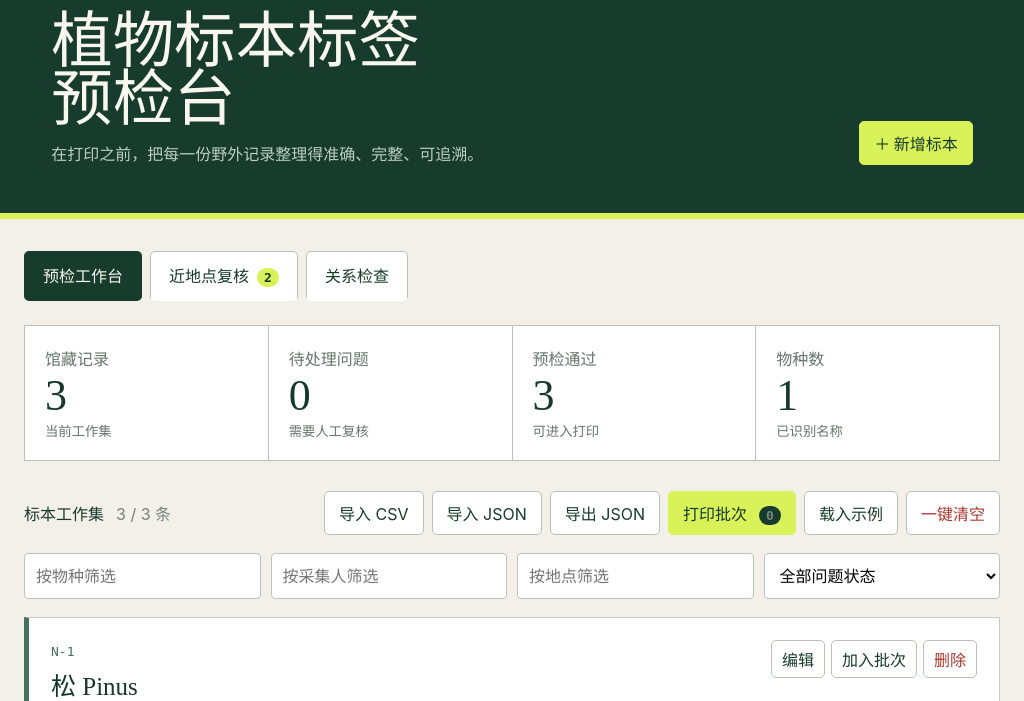
采集点关系检查（只读） › 未复核的对不会被自动确认：检查页只读，结论存储与记录原样
This screenshot has width=1024, height=701.
Click the button "近地点复核 2" at (224, 276), box x1=150 y1=250 x2=298 y2=301
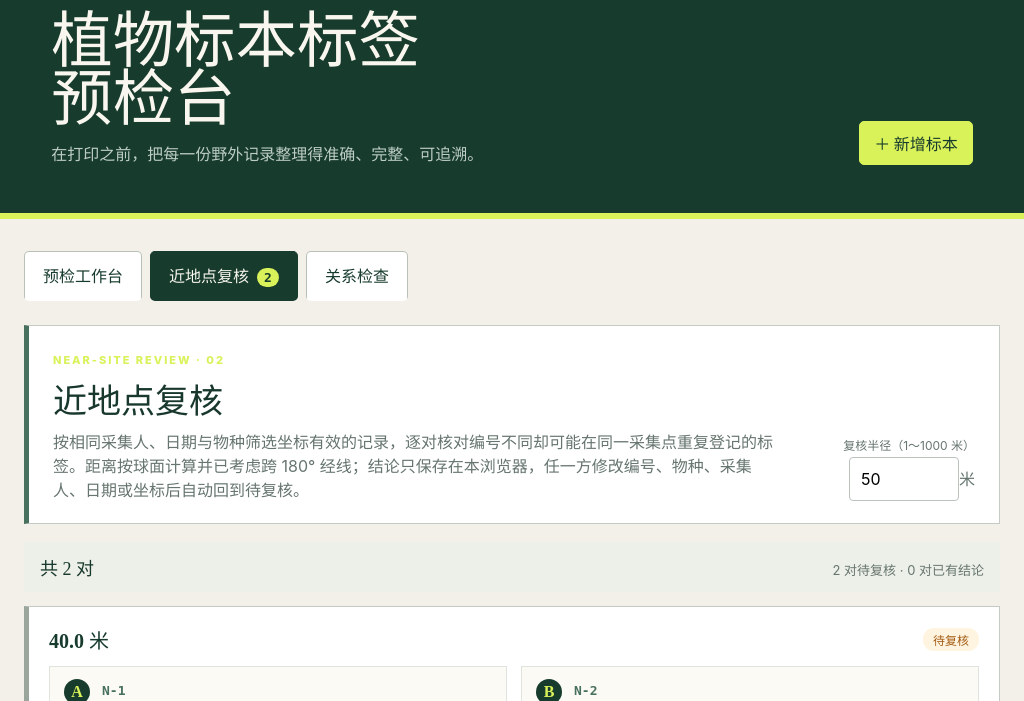
Replace the text in the field named "复核半径，单位米" with "100" at (904, 479), box x1=849 y1=457 x2=959 y2=501
(page scrolled)
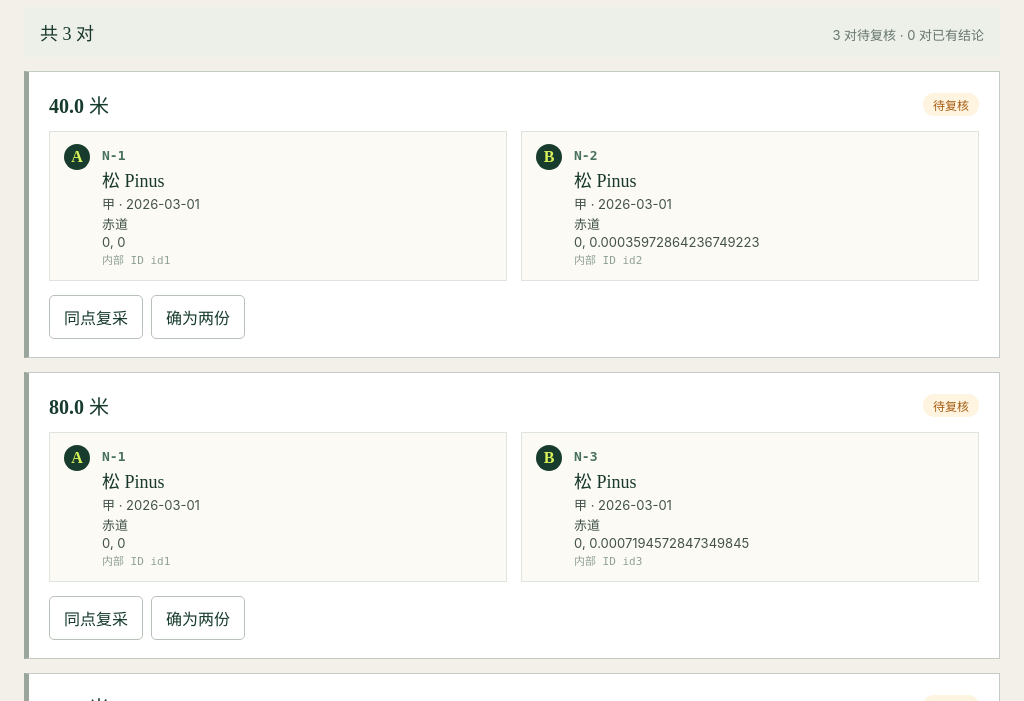
Click the 1st button "同点复采" at (96, 317), box x1=49 y1=295 x2=143 y2=339
(page scrolled)
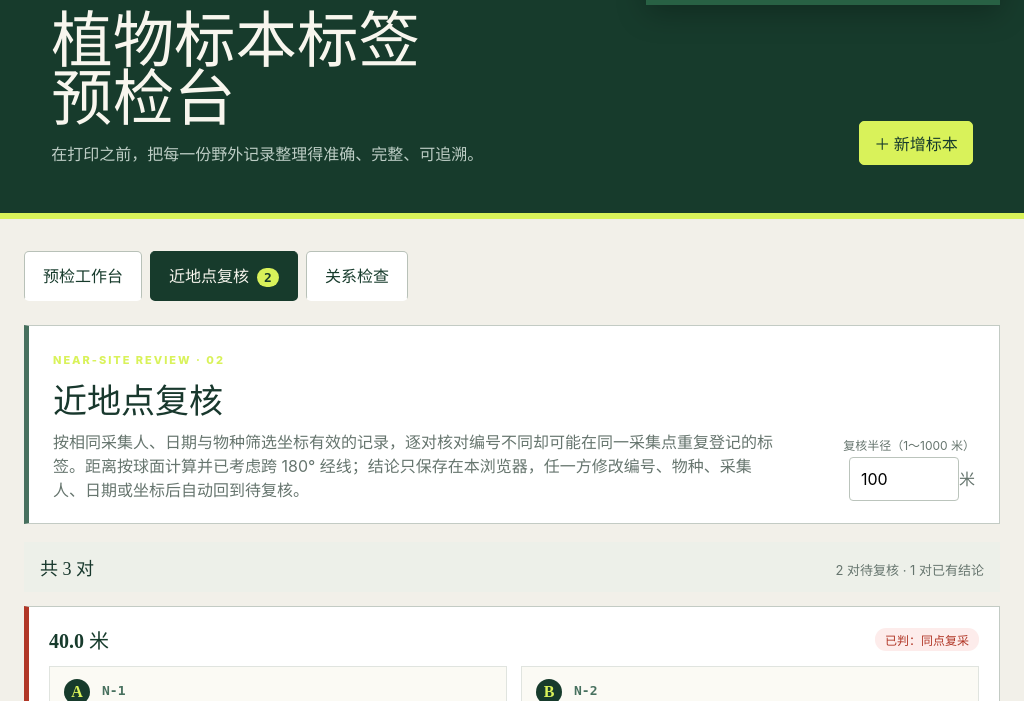
Click the button "关系检查" at (357, 276), box x1=306 y1=250 x2=408 y2=301
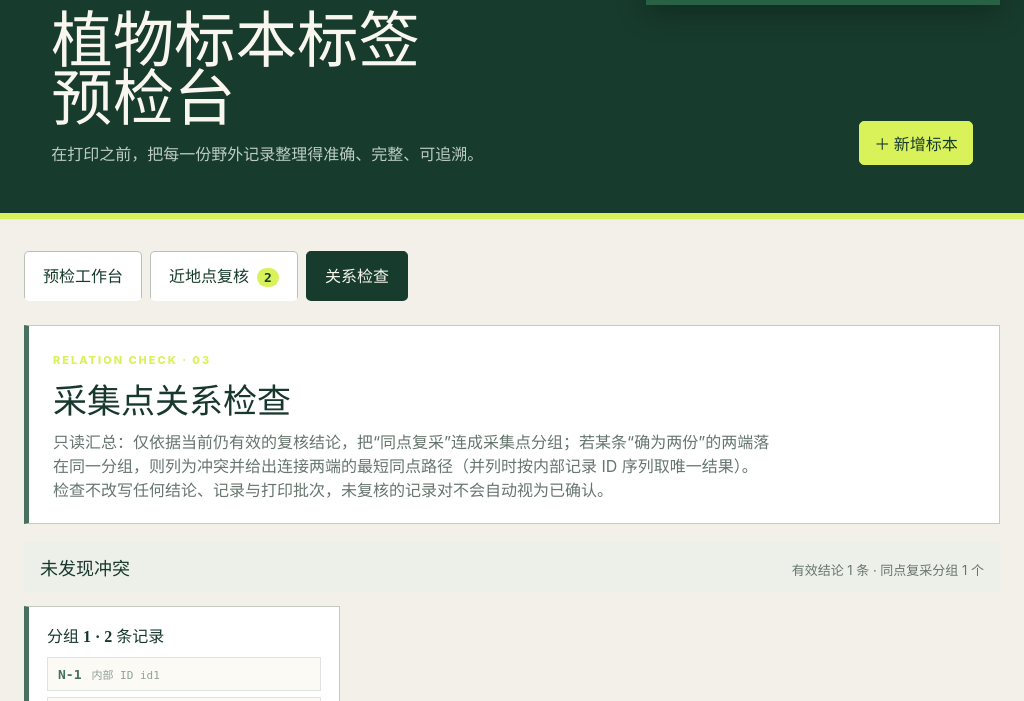
Expected: the text "未发现冲突" is shown, x1=40 y1=554 x2=130 y2=580
Expected: the text "有效结论 1 条 · 同点复采分组 1 个" is shown, x1=792 y1=560 x2=984 y2=579
Click the button "近地点复核 2" at (224, 276), box x1=150 y1=250 x2=298 y2=301
(page scrolled)
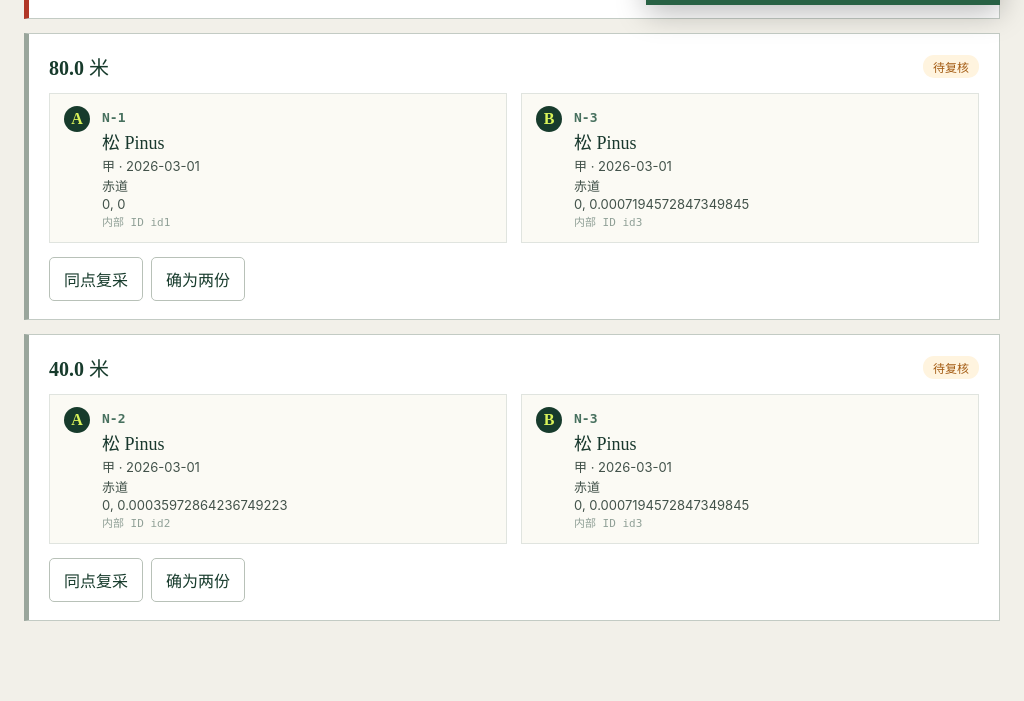
Expected: the text "待复核" in the row of "80.0 米" is shown, x1=933 y1=60 x2=969 y2=75
Expected: the 2nd text "待复核" is shown, x1=923 y1=356 x2=979 y2=379
